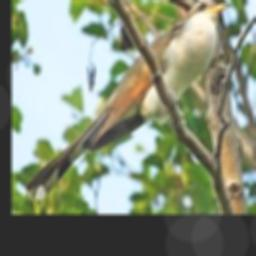Cuckoo: (26, 0, 230, 202)
